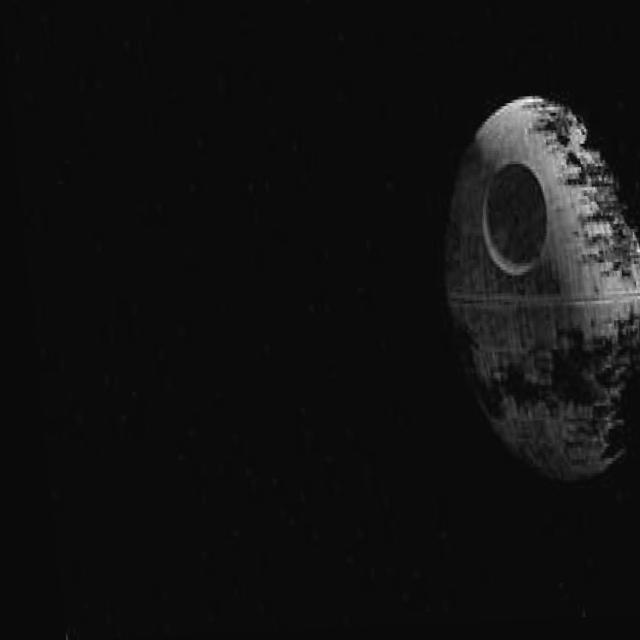deathStar: (426, 94, 640, 488)
